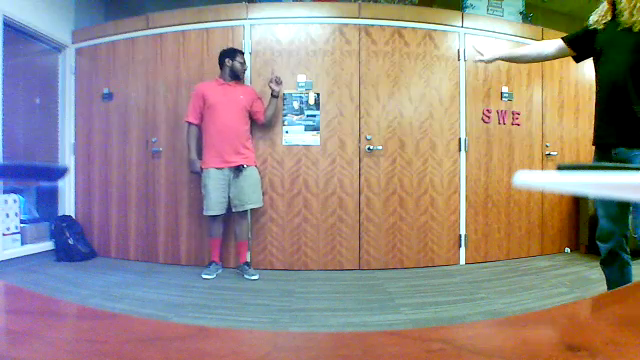up: (267, 63, 284, 96)
